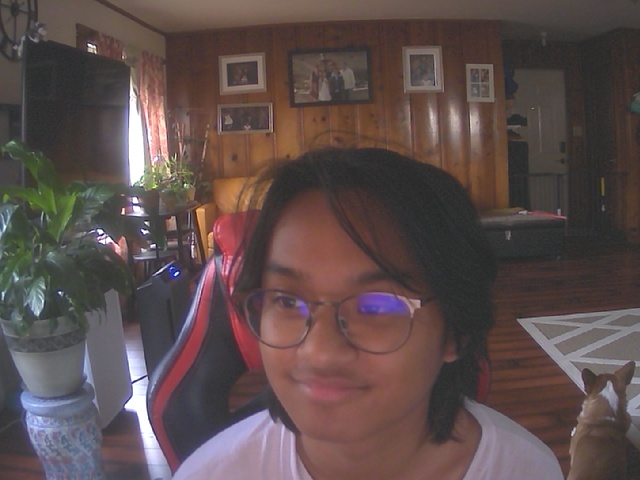happy: (229, 161, 477, 446)
